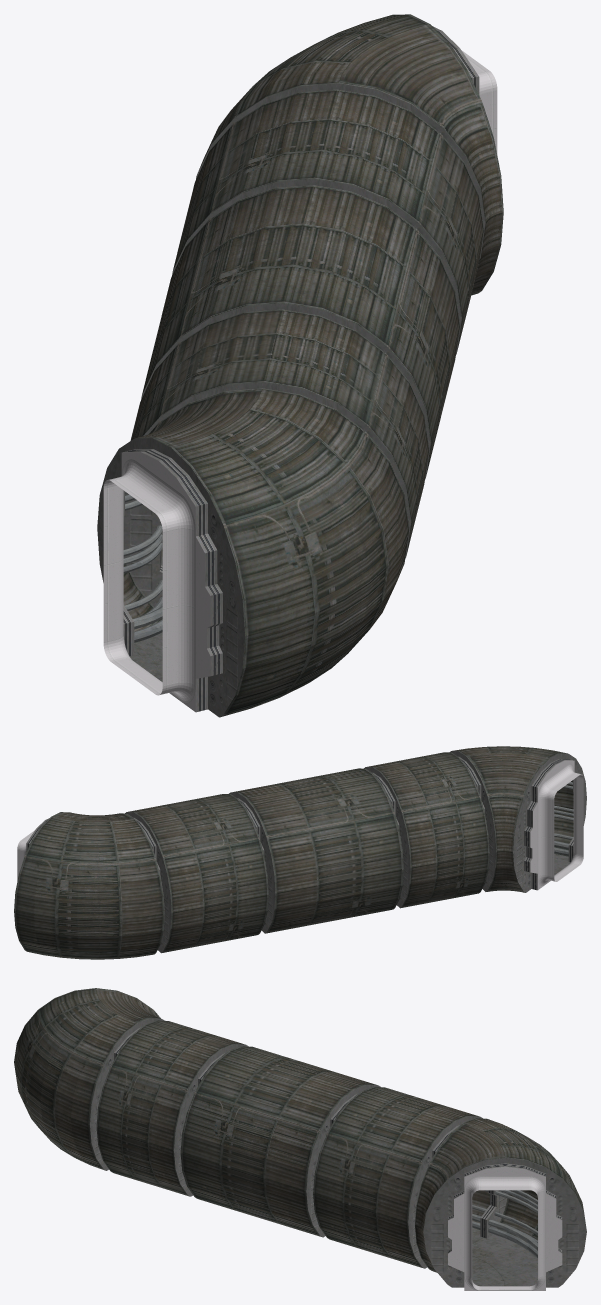
File: thm_spc_corvette_dungeon_r29_hall29_mesh_r29.fbx
The picture shows the model from 3 angles, top to bottom: view 1: azimuth 30°, elevation 25°; view 2: azimuth 150°, elevation 25°; view 3: azimuth 270°, elevation 25°; orthographic projection. The views are drawn at different scales.
Visible parts, largest first — view 1: mesh_node; view 2: mesh_node; view 3: mesh_node.
Boxes of the visible parts, x1=… form: mesh_node: x1=97, y1=14, x2=503, y2=717; mesh_node: x1=14, y1=746, x2=586, y2=959; mesh_node: x1=14, y1=988, x2=586, y2=1290.
Bounding box in the file's own units: 11 × 3.5 × 14.
